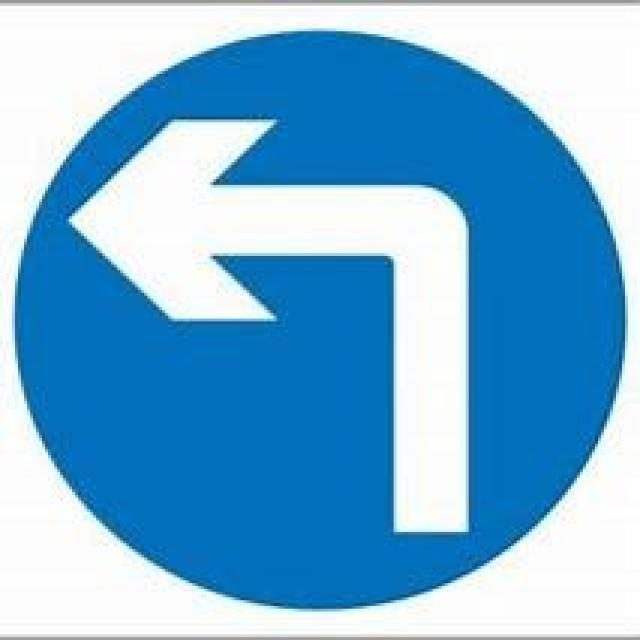COMPULSARY_TURN_LEFT_AHEAD: (9, 22, 634, 613)
